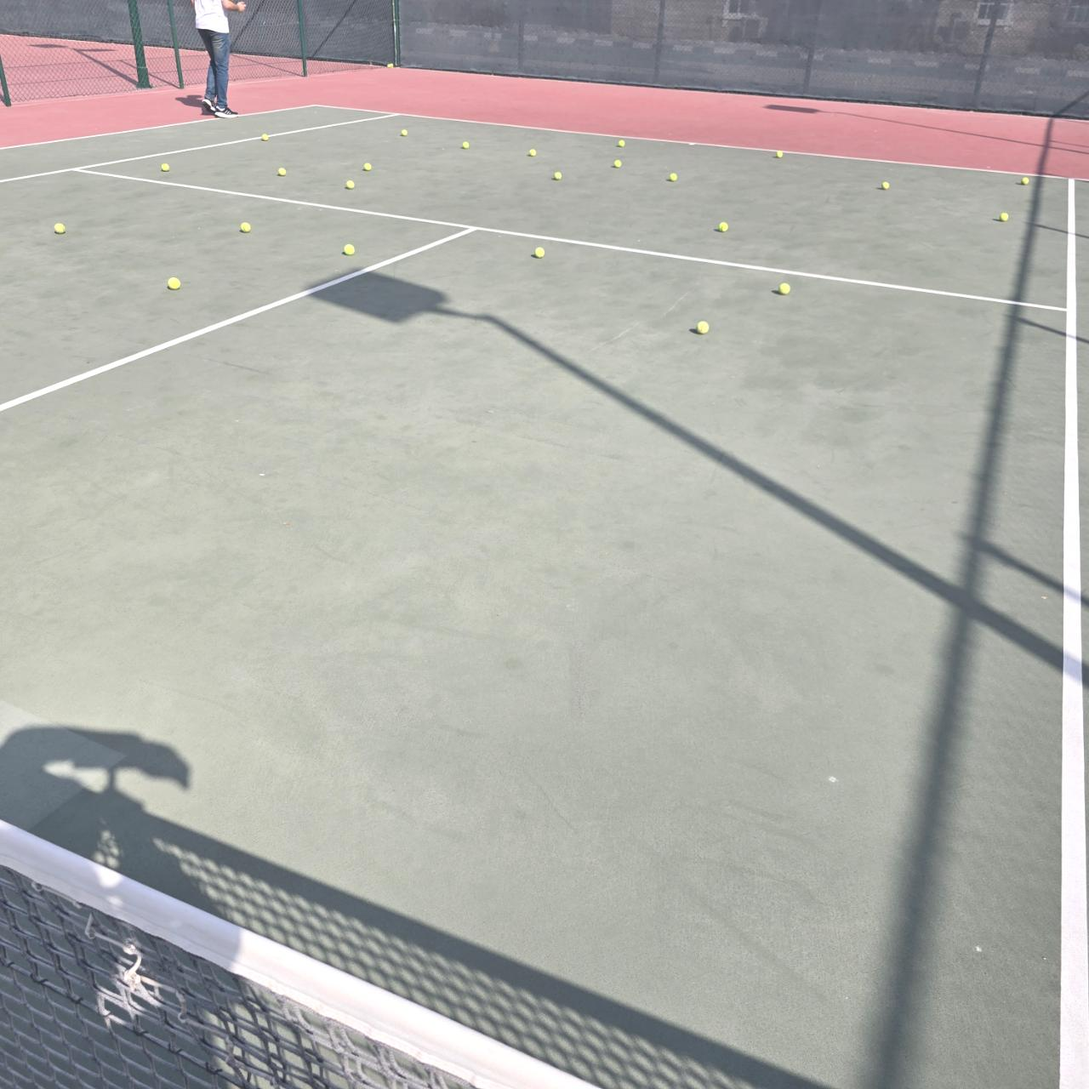tennis-ball: (695, 318, 710, 334), (166, 275, 180, 290), (531, 244, 544, 259), (341, 242, 355, 255), (777, 282, 790, 295), (53, 221, 65, 234), (238, 220, 250, 232), (718, 221, 728, 232), (345, 179, 355, 190), (999, 212, 1009, 222), (160, 163, 170, 172), (553, 171, 562, 181), (669, 172, 678, 182), (278, 167, 286, 176), (363, 163, 372, 171), (613, 160, 622, 168), (881, 181, 889, 190), (1021, 177, 1029, 185), (385, 62, 394, 69), (261, 134, 269, 141), (401, 129, 408, 137), (462, 141, 469, 149), (529, 149, 536, 157), (776, 151, 784, 158), (618, 140, 625, 147)
